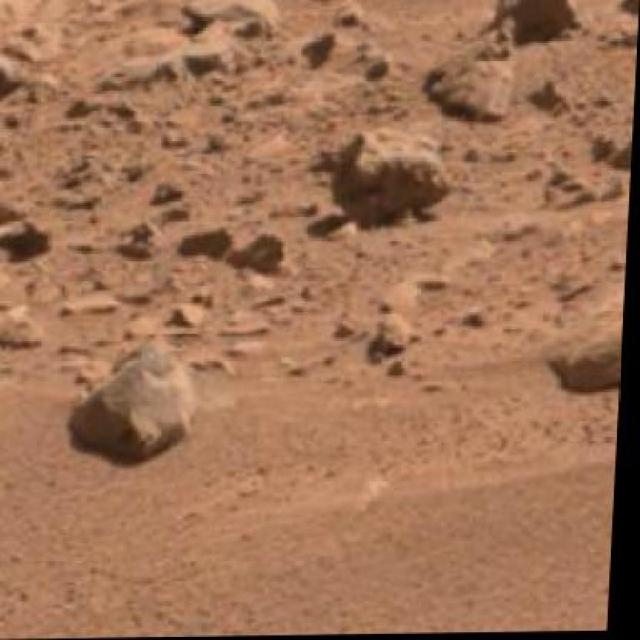rock: (67, 331, 205, 471), (548, 262, 627, 404), (336, 129, 458, 216), (486, 0, 583, 45), (0, 46, 29, 134)
